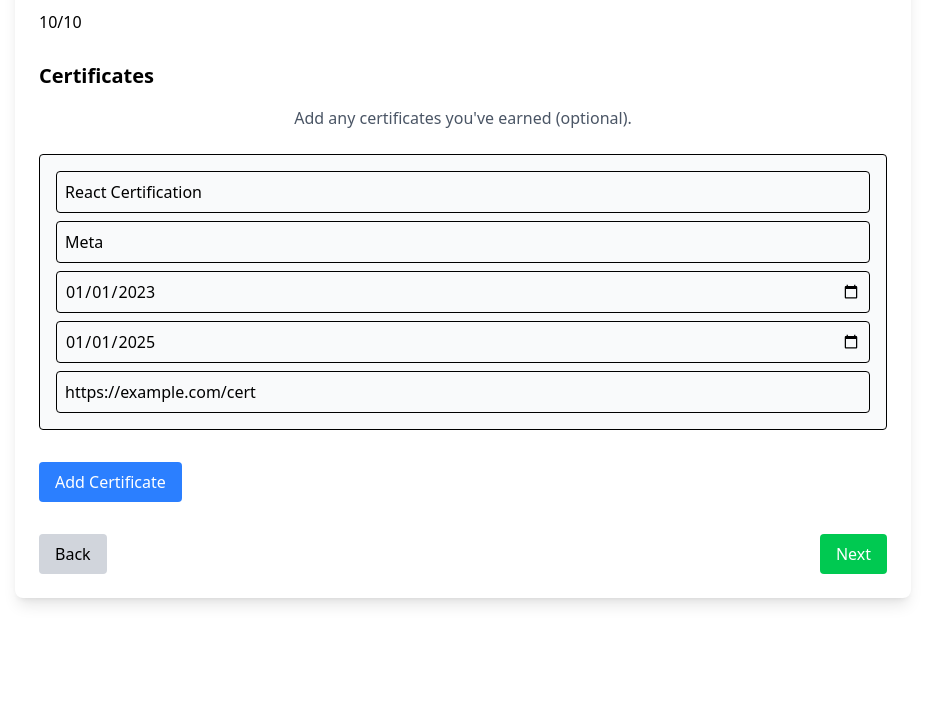
Step14 Component › adds a new certificate entry on button click
This screenshot has width=927, height=726.
Click the button "Add Certificate": (110, 482) [39,462,182,502]
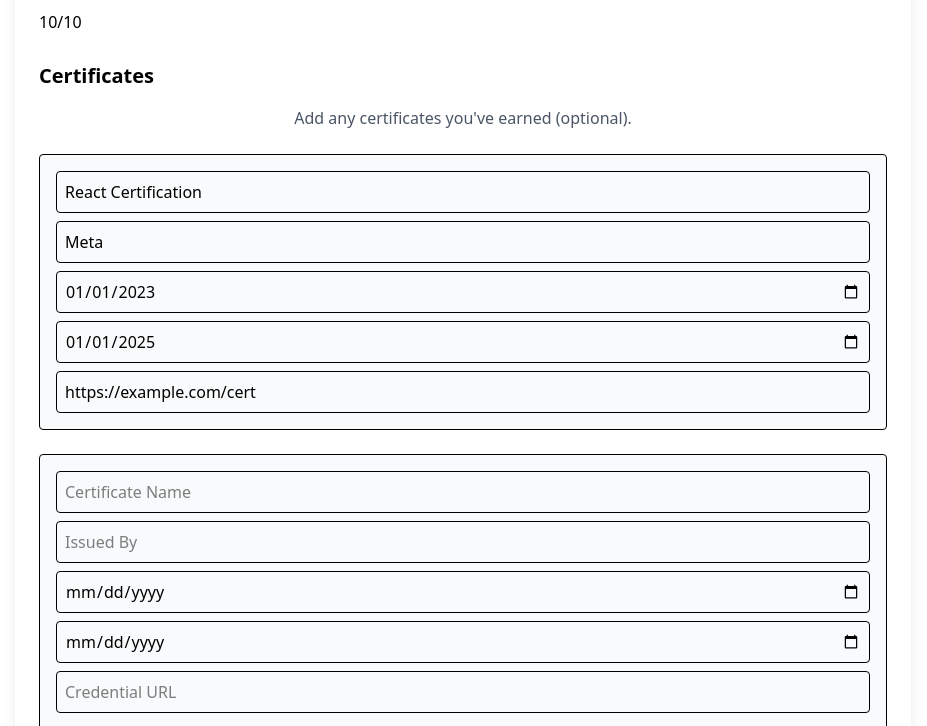
Expected: the number of fields with placeholder "Certificate Name" is 2, [56,171,870,213]; [56,471,870,513]
